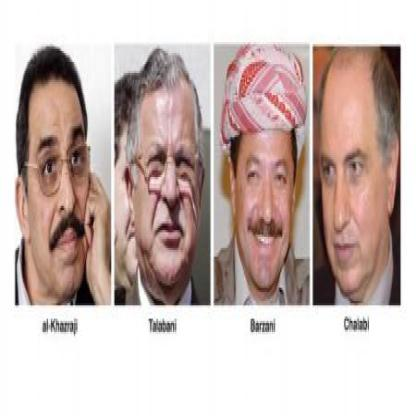face: (317, 42, 390, 294), (24, 58, 93, 302), (134, 58, 204, 286), (236, 60, 296, 290)
